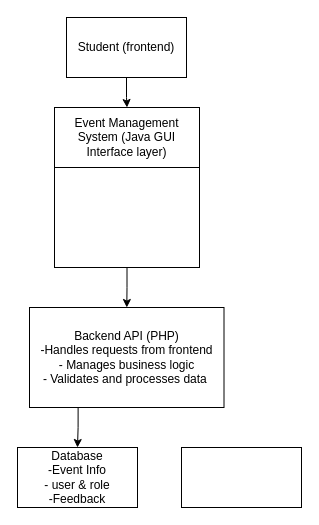
Some shapes in this 319 by 525 pixel diagram are drawn without their labels. Here are the shapes that lost their labels. From the top down, the centre of each, then its label:
pixel 127 217: -view event - register event -submit feedback
pixel 241 477: Third party-API -Google Maps -OpenStreetMap (Nominatim)
